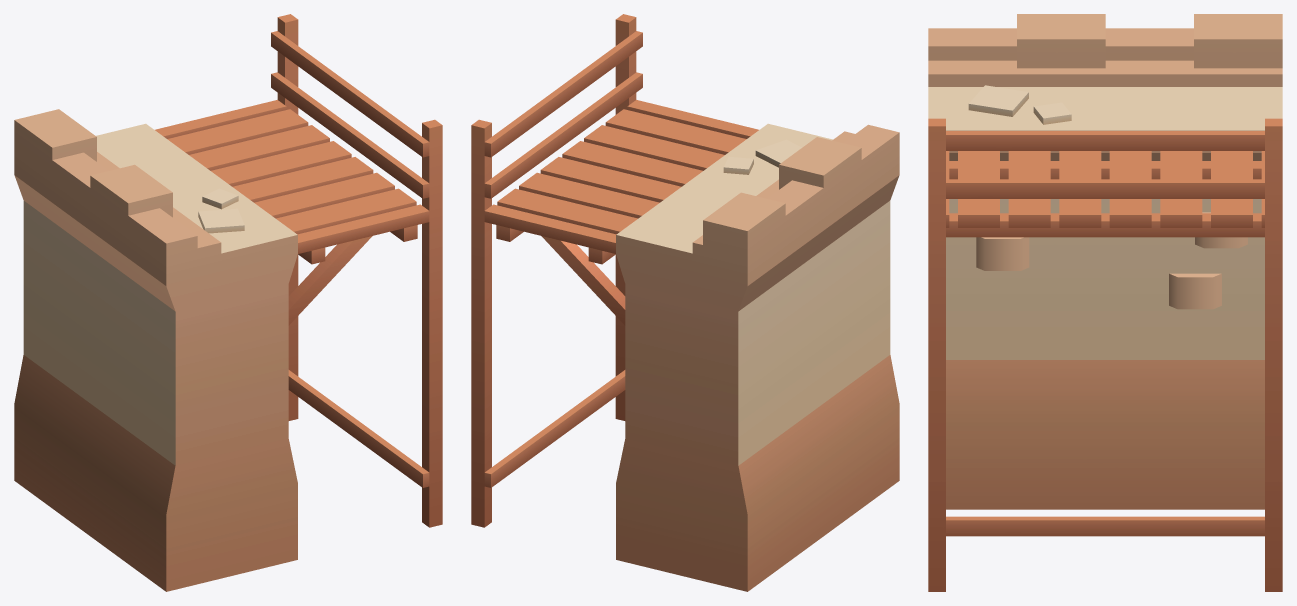
File: kenney-castle-wall-narrow-wood-fence.glb
3 renders of one model, left to right at view 1: azimuth 30°, elevation 25°; view 2: azimuth 150°, elevation 25°; view 3: azimuth 270°, elevation 25°, orthographic. The views are drawn at different scales.
Visible parts, largest first — view 1: wall-narrow-wood-fence; view 2: wall-narrow-wood-fence; view 3: wall-narrow-wood-fence.
Boxes of the visible parts, bbox=[...] form: wall-narrow-wood-fence: bbox=[14, 14, 442, 591]; wall-narrow-wood-fence: bbox=[471, 14, 899, 591]; wall-narrow-wood-fence: bbox=[928, 14, 1282, 591].
Bounding box in the file's own units: 1.05 × 1.45 × 1.
1 material, 1 textured.
